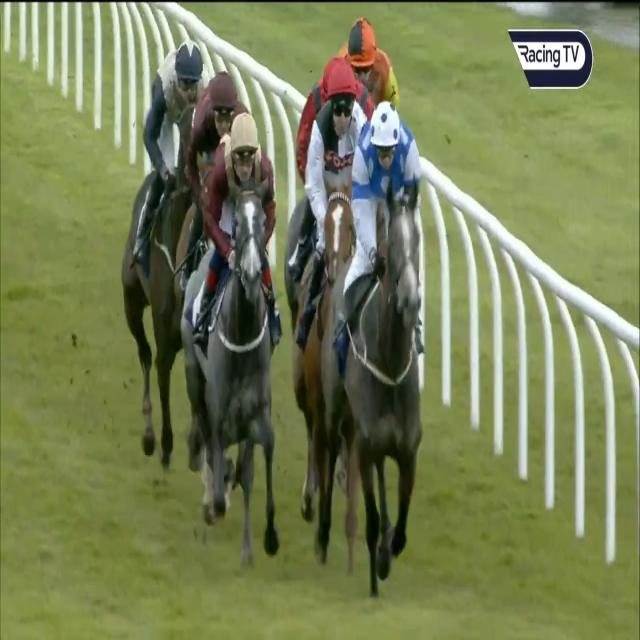horses-racing: (341, 99, 445, 594), (199, 109, 282, 551), (121, 42, 205, 408), (170, 70, 259, 414), (299, 59, 374, 294), (331, 6, 414, 116), (294, 56, 382, 159)
